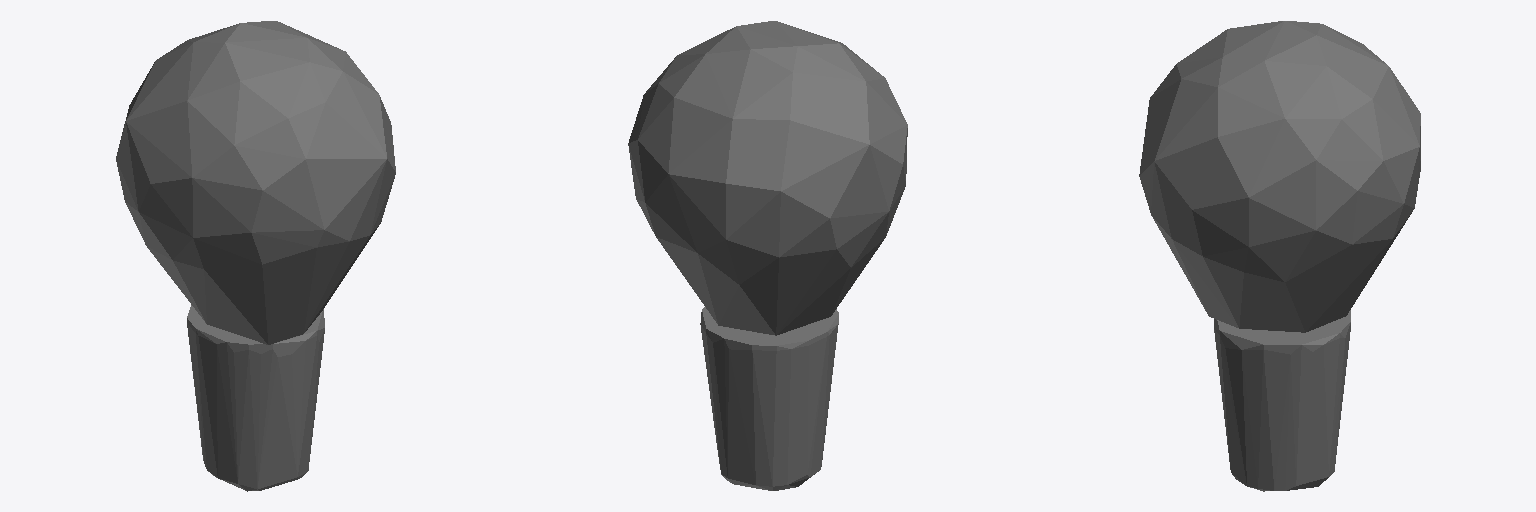
The robot description file, URDF, robot "light_bulb_004":
<?xml version="1.0" ?>
<robot name="light_bulb_004">
  <material name="color">
    <color rgba=".5 .5 .5 1"/>
  </material>

  <link name="base_link">
    <contact>
      <lateral_friction value="1.0"/>
      <rolling_friction value="0.001"/>
      <spinning_friction value="0.001"/>
      <inertia_scaling value="1.0"/>
    </contact>
    <inertial>
      <origin rpy="0 0 0" xyz="-4.05397e-07 6.23903e-06 0.00984833"/>
       <mass value="0.1"/>
       <inertia ixx="1" ixy="0" ixz="0" iyy="1" iyz="0" izz="1"/>
    </inertial>

    <visual>
      <origin rpy="0 0 0" xyz="0 0 0"/>
      <geometry>
        <mesh filename="light_bulb_004_vhacd_0_of_2.obj" scale="1 1 1"/>
      </geometry>
      <material name="color"/>
    </visual>
    <visual>
      <origin rpy="0 0 0" xyz="0 0 0"/>
      <geometry>
        <mesh filename="light_bulb_004_vhacd_1_of_2.obj" scale="1 1 1"/>
      </geometry>
      <material name="color"/>
    </visual>

    <collision>
      <origin rpy="0 0 0" xyz="0 0 0"/>
      <geometry>
        <mesh filename="light_bulb_004_vhacd_0_of_2.obj" scale="1 1 1"/>
      </geometry>
    </collision>
    <collision>
      <origin rpy="0 0 0" xyz="0 0 0"/>
      <geometry>
        <mesh filename="light_bulb_004_vhacd_1_of_2.obj" scale="1 1 1"/>
      </geometry>
    </collision>

  </link>
</robot>

--- What the picture shows (computed from the rendered views, not written in the file) ---
The picture shows the robot from 3 angles, left to right: view 1: azimuth 30°, elevation 25°; view 2: azimuth 150°, elevation 25°; view 3: azimuth 270°, elevation 25°; orthographic projection.
Robot: light_bulb_004 — 1 links, 0 joints (none); root link base_link; default pose: every joint at zero.
Visible links, largest first — view 1: base_link; view 2: base_link; view 3: base_link.
Link boxes in pixels (x1,y1,x2,y2): base_link: (116,21,395,491); base_link: (628,21,907,490); base_link: (1139,21,1420,491).
Bounding box of the posed robot: 0.05 × 0.0508 × 0.0884 m (x, y, z).
2 mesh visuals loaded from 2 distinct referenced files (2 OBJ).